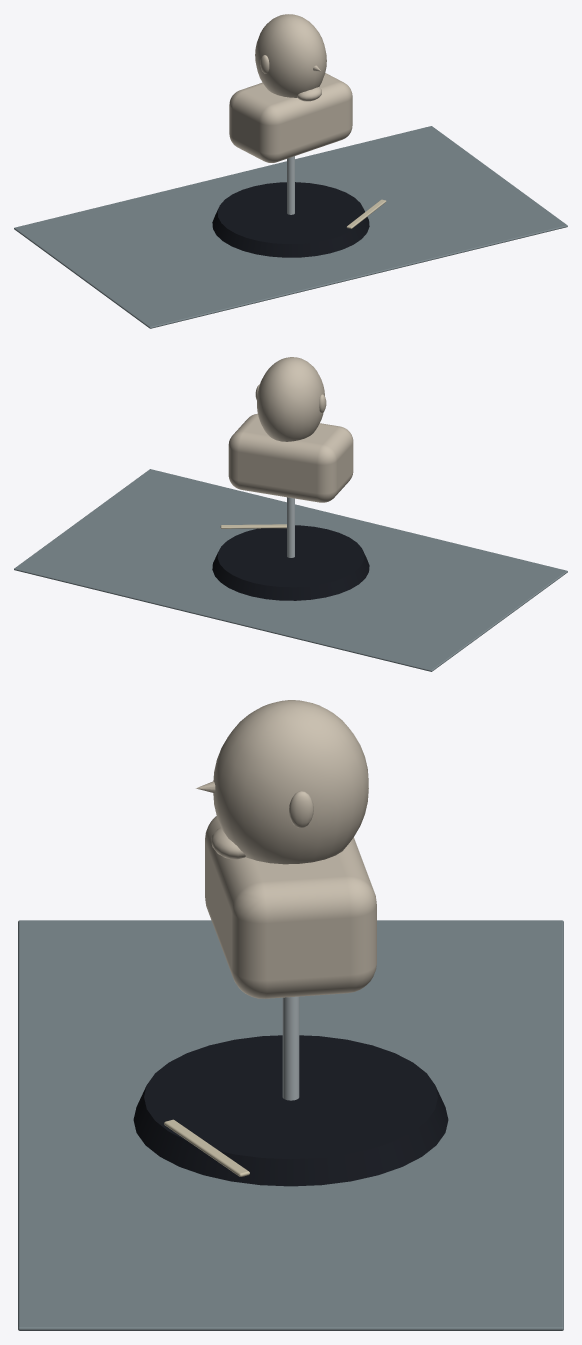
The model's file is atelier-artist-set-sculpture-chalk.glb.
3 renders of one model, top to bottom at view 1: azimuth 30°, elevation 25°; view 2: azimuth 150°, elevation 25°; view 3: azimuth 270°, elevation 25°, orthographic. The views are drawn at different scales.
Bounding box in the file's own units: 0.92 × 0.4443 × 0.52.
